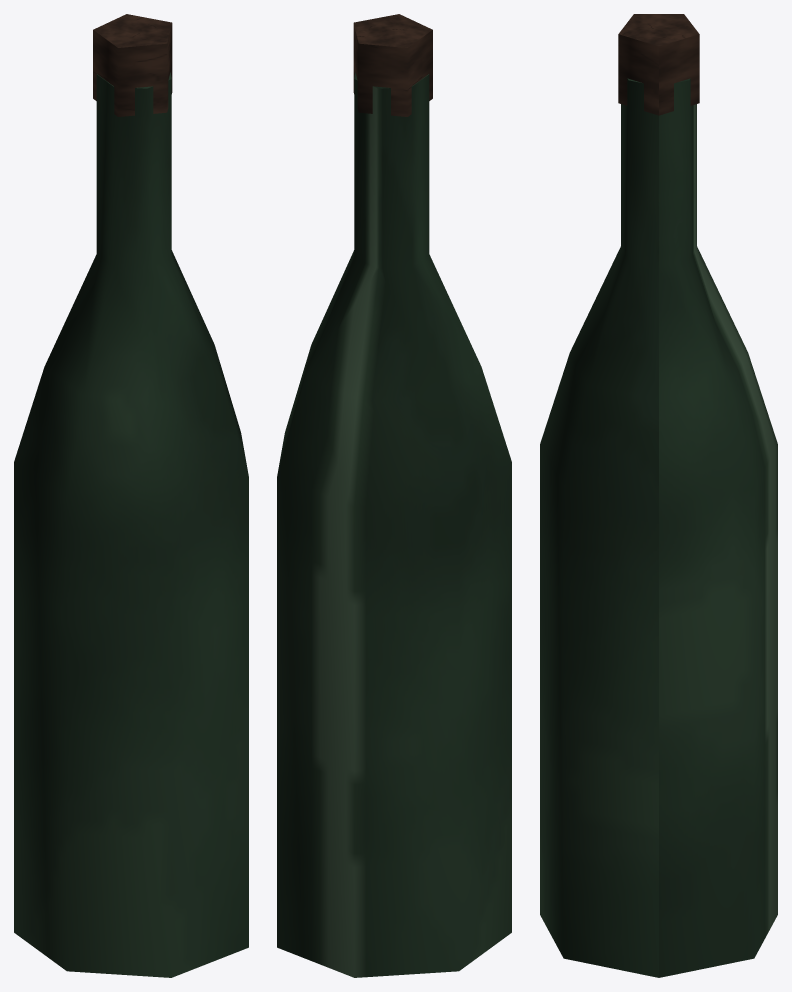
File: PSXH_Bottle_Wine.obj
3 views of the same model, side by side, from view 1: azimuth 30°, elevation 25°; view 2: azimuth 150°, elevation 25°; view 3: azimuth 270°, elevation 25° (orthographic).
Parts seen in each view (by area): view 1: PSXH_Bottle_Wine; view 2: PSXH_Bottle_Wine; view 3: PSXH_Bottle_Wine.
Part boxes in pixels (<box>): PSXH_Bottle_Wine: <box>14,14,248,977</box>; PSXH_Bottle_Wine: <box>277,14,511,977</box>; PSXH_Bottle_Wine: <box>540,14,777,977</box>.
Bounding box in the file's own units: 0.076 × 0.325 × 0.078.
1 material, 1 textured.
